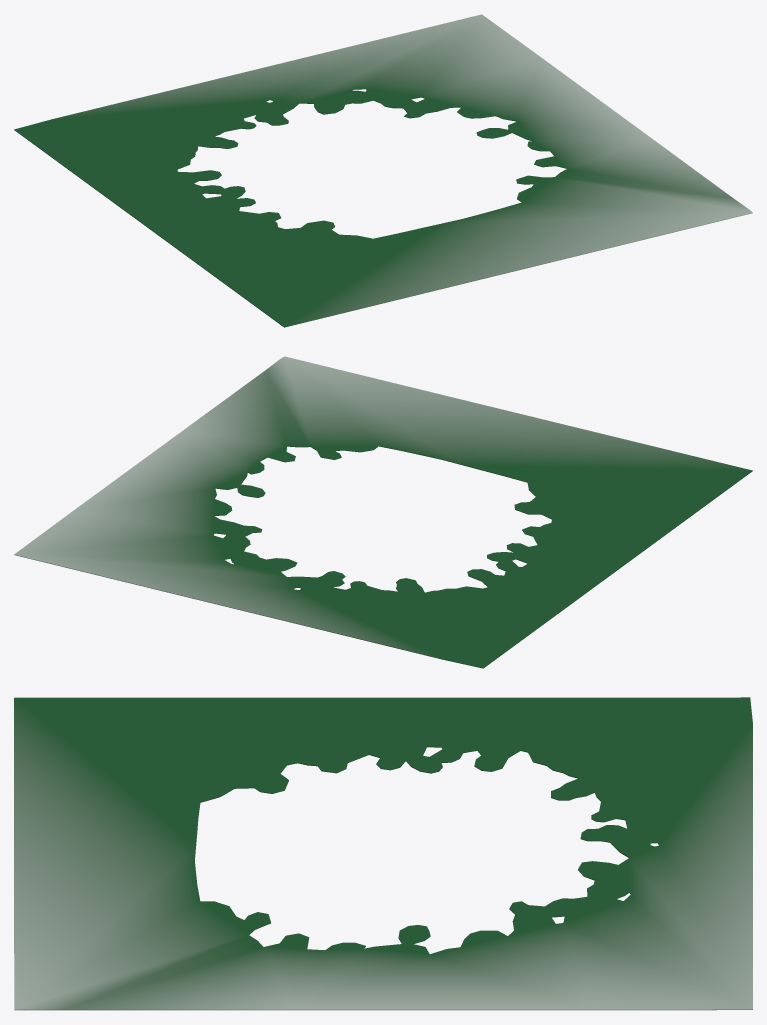
File: Summer_B_3.fbx
3 views of the same model, one above another, from view 1: azimuth 30°, elevation 25°; view 2: azimuth 150°, elevation 25°; view 3: azimuth 270°, elevation 25° (orthographic). The views are drawn at different scales.
Parts seen in each view (by area): view 1: 3_B; view 2: 3_B; view 3: 3_B.
Boxes of the visible parts, x1,y1,x2,y2 form: 3_B: (14, 14, 752, 327); 3_B: (14, 356, 752, 668); 3_B: (14, 697, 752, 1010).
Bounding box in the file's own units: 1.98 × 1.98 × 0.002.
